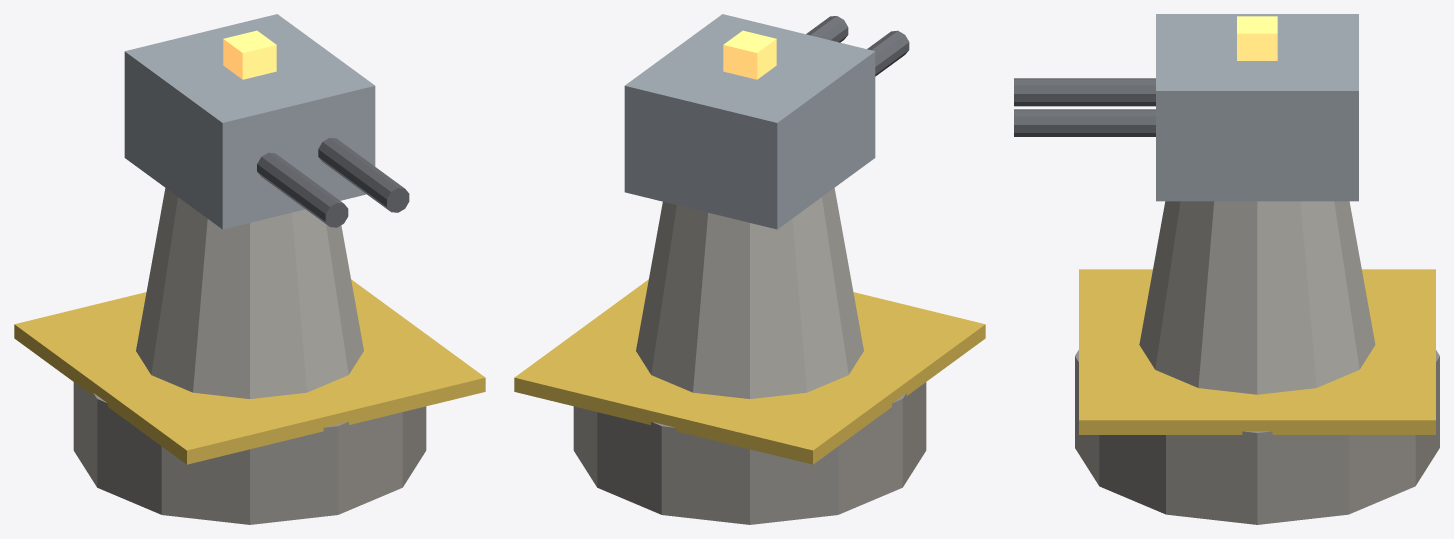
Rendered from Bldg_DefenseTurret.fbx.
3 views of the same model, side by side, from view 1: azimuth 30°, elevation 25°; view 2: azimuth 150°, elevation 25°; view 3: azimuth 270°, elevation 25° (orthographic). The views are drawn at different scales.
Parts seen in each view (by area): view 1: Body.008, Turret.002; view 2: Body.008, Turret.002; view 3: Body.008, Turret.002.
Boxes of the visible parts, x1,y1,x2,y2 form: Body.008: (14, 188, 485, 524); Turret.002: (124, 14, 409, 229); Body.008: (514, 188, 985, 524); Turret.002: (624, 14, 909, 229); Body.008: (1075, 201, 1439, 524); Turret.002: (1014, 14, 1358, 201).
Bounding box in the file's own units: 1.8 × 2.3 × 2.1.
